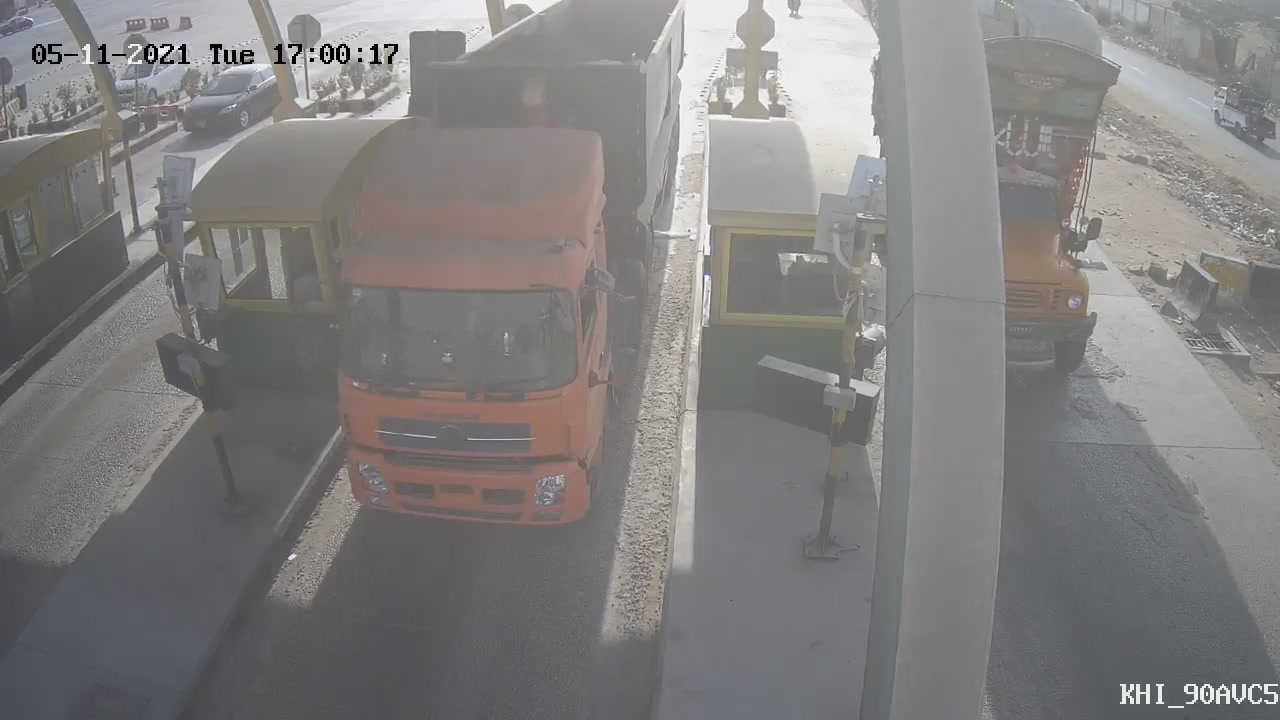F6: (283, 7, 708, 555)
